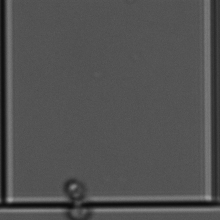Dead Cell: (59, 172, 95, 215)
